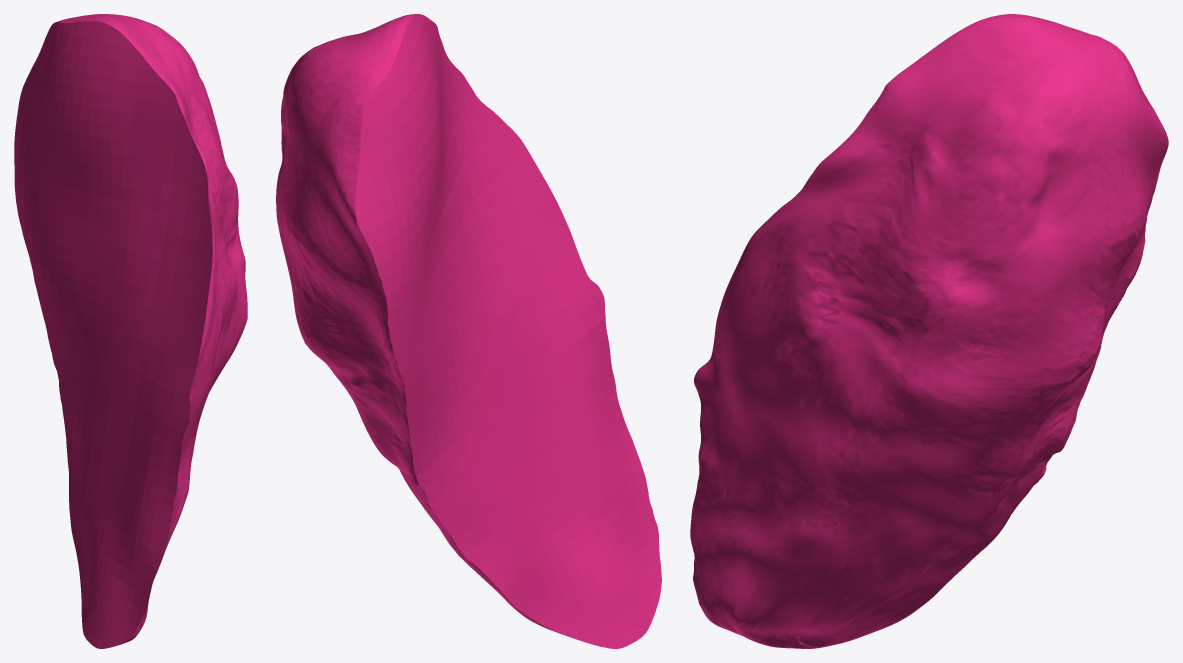
File: EDJ_8 M Caries_OC.glb
The picture shows the model from 3 angles, left to right: view 1: azimuth 30°, elevation 25°; view 2: azimuth 150°, elevation 25°; view 3: azimuth 270°, elevation 25°; orthographic projection. The views are drawn at different scales.
Parts seen in each view (by area): view 1: 20250920T151612_annotation_label_5_composite_restoration_me.; view 2: 20250920T151612_annotation_label_5_composite_restoration_me.; view 3: 20250920T151612_annotation_label_5_composite_restoration_me..
Part boxes in pixels (x1,y1,x2,y2): 20250920T151612_annotation_label_5_composite_restoration_me.: (14, 14, 247, 648); 20250920T151612_annotation_label_5_composite_restoration_me.: (276, 14, 661, 648); 20250920T151612_annotation_label_5_composite_restoration_me.: (690, 14, 1168, 648).
Bounding box in the file's own units: 1.69 × 4.21 × 2.63.
